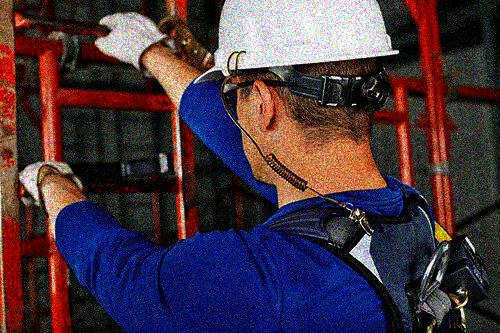helmet: (192, 1, 399, 183)
